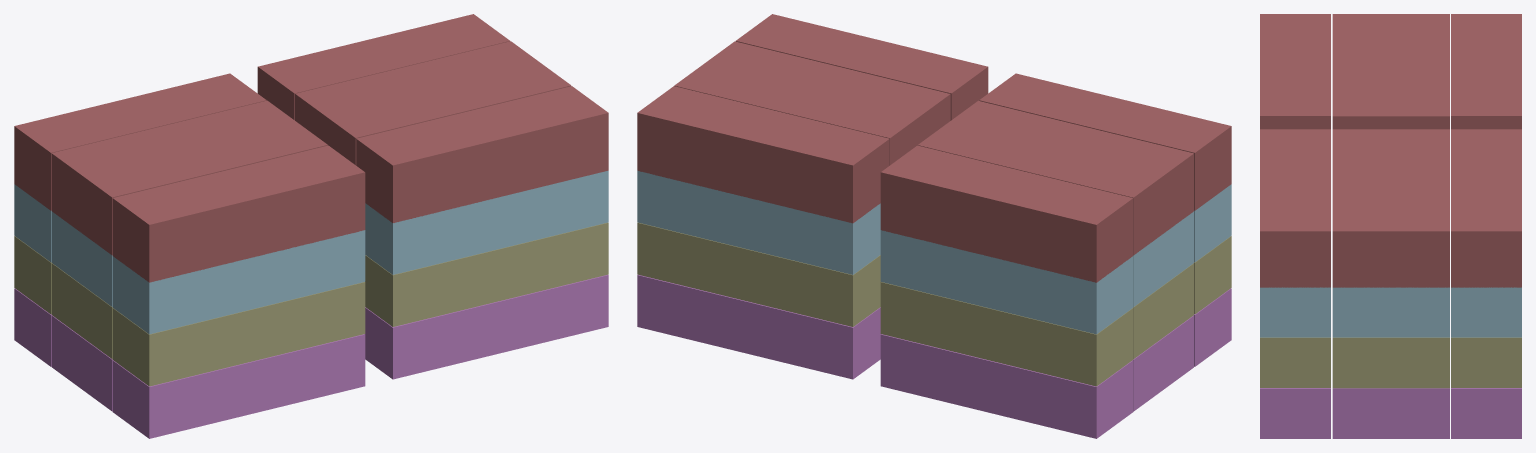
The model's file is d-hitbox.glb.
The picture shows the model from 3 angles, left to right: view 1: azimuth 30°, elevation 25°; view 2: azimuth 150°, elevation 25°; view 3: azimuth 270°, elevation 25°; orthographic projection. The views are drawn at different scales.
Visible parts, largest first — view 1: D-D404, D-D403, D-D405, D-D402, D-D104, D-D204, D-D304, D-D103, D-D203, D-D303, D-D406, D-D401 (+6 smaller); view 2: D-D406, D-D401, D-D405, D-D402, D-D106, D-D206, D-D306, D-D101, D-D201, D-D301, D-D404, D-D403 (+6 smaller); view 3: D-D402, D-D405, D-D403, D-D401, D-D404, D-D406, D-D202, D-D102, D-D302, D-D103, D-D203, D-D303 (+3 smaller).
Boxes of the visible parts, box(x1,y1,x2,y2) form: D-D404: box(112, 145, 365, 282); D-D403: box(356, 86, 608, 222); D-D405: box(51, 100, 327, 255); D-D402: box(295, 41, 571, 165); D-D104: box(112, 334, 365, 438); D-D204: box(112, 282, 365, 386); D-D304: box(112, 230, 365, 334); D-D103: box(365, 274, 608, 379); D-D203: box(365, 222, 608, 326); D-D303: box(365, 170, 608, 274); D-D406: box(14, 73, 266, 210); D-D401: box(257, 14, 509, 120); D-D406: box(880, 145, 1133, 282); D-D401: box(637, 86, 889, 223); D-D405: box(917, 100, 1193, 255); D-D402: box(674, 41, 950, 165); D-D106: box(880, 334, 1133, 438); D-D206: box(880, 282, 1133, 386); D-D306: box(880, 230, 1133, 334); D-D101: box(637, 274, 880, 379); D-D201: box(637, 222, 880, 326); D-D301: box(637, 170, 880, 274); D-D404: box(979, 73, 1231, 210); D-D403: box(735, 14, 988, 120); D-D402: box(1332, 129, 1449, 287); D-D405: box(1332, 14, 1449, 129); D-D403: box(1260, 129, 1330, 287); D-D401: box(1451, 129, 1521, 287); D-D404: box(1260, 14, 1330, 129); D-D406: box(1451, 14, 1521, 129); D-D202: box(1332, 337, 1449, 388); D-D102: box(1332, 388, 1449, 438); D-D302: box(1332, 287, 1449, 337); D-D103: box(1260, 388, 1330, 438); D-D203: box(1260, 337, 1330, 387); D-D303: box(1260, 287, 1330, 337).
Size of the model in its own units: 32.25 by 14.35 by 16.42.
